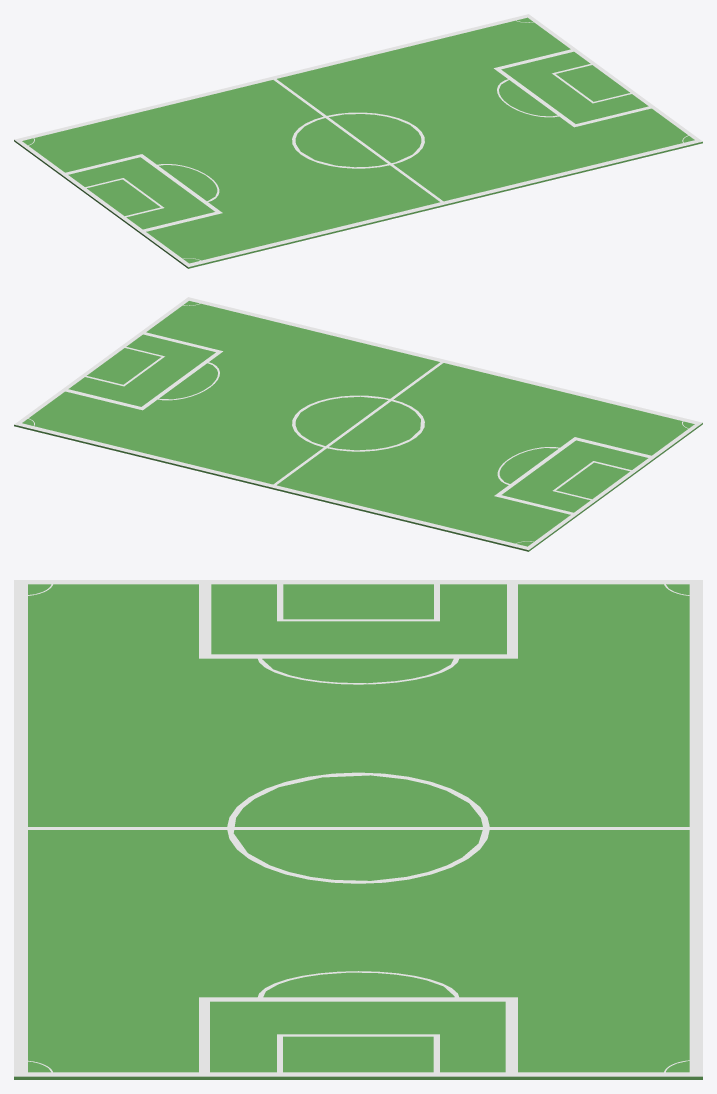
The model's file is field.fbx.
3 renders of one model, top to bottom at view 1: azimuth 30°, elevation 25°; view 2: azimuth 150°, elevation 25°; view 3: azimuth 270°, elevation 25°, orthographic. The views are drawn at different scales.
Visible parts, largest first — view 1: Soccer Field; view 2: Soccer Field; view 3: Soccer Field.
Boxes of the visible parts, left/top/right/bottom form: Soccer Field: left=14, top=14, right=702, bottom=268; Soccer Field: left=14, top=297, right=702, bottom=551; Soccer Field: left=14, top=580, right=702, bottom=1079.
Bounding box in the file's own units: 2439 × 7.89 × 1430.
